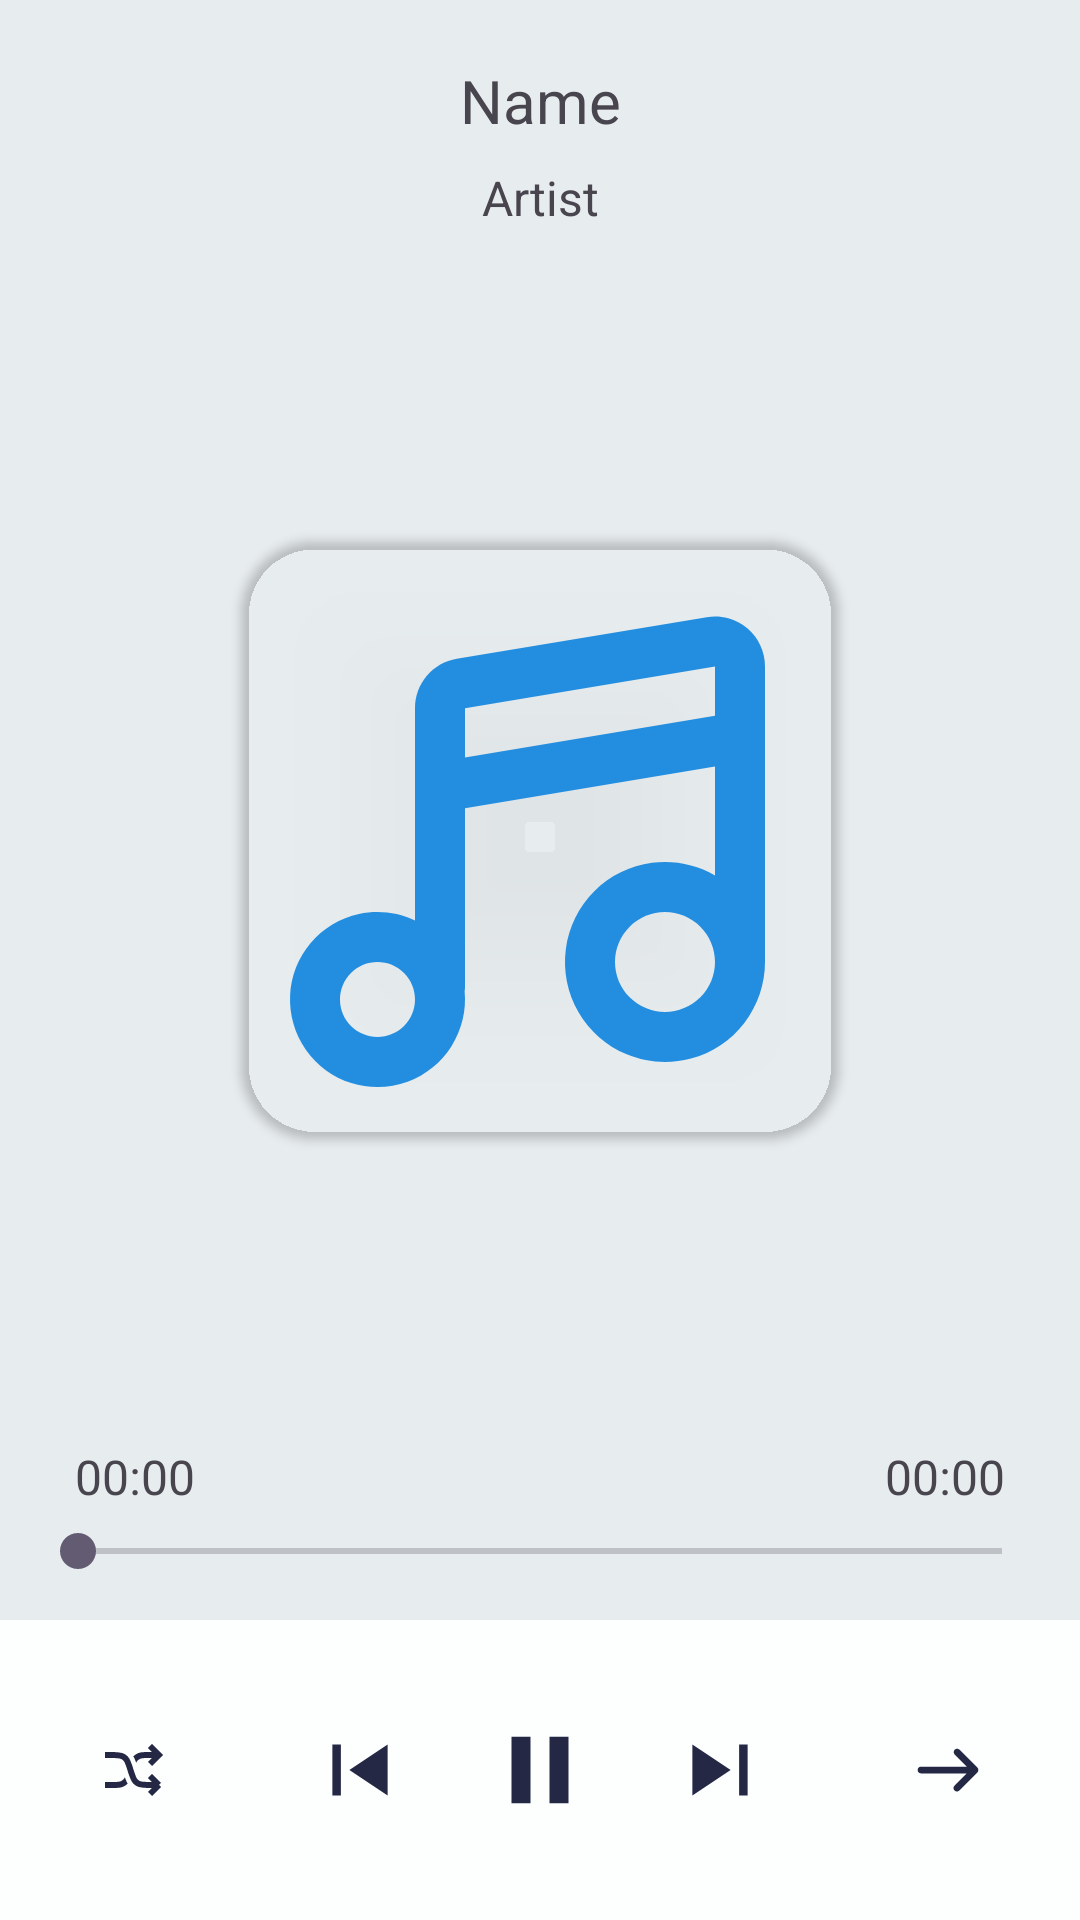

Named icons in this screenshot (1080px x 1920px) and their bounding boxes, (x1, y1, x2, y2):
next: (692, 1744, 748, 1796)
norepeat: (917, 1748, 979, 1792)
pause: (511, 1736, 569, 1804)
previous: (332, 1744, 388, 1796)
shuffle: (105, 1744, 163, 1796)
